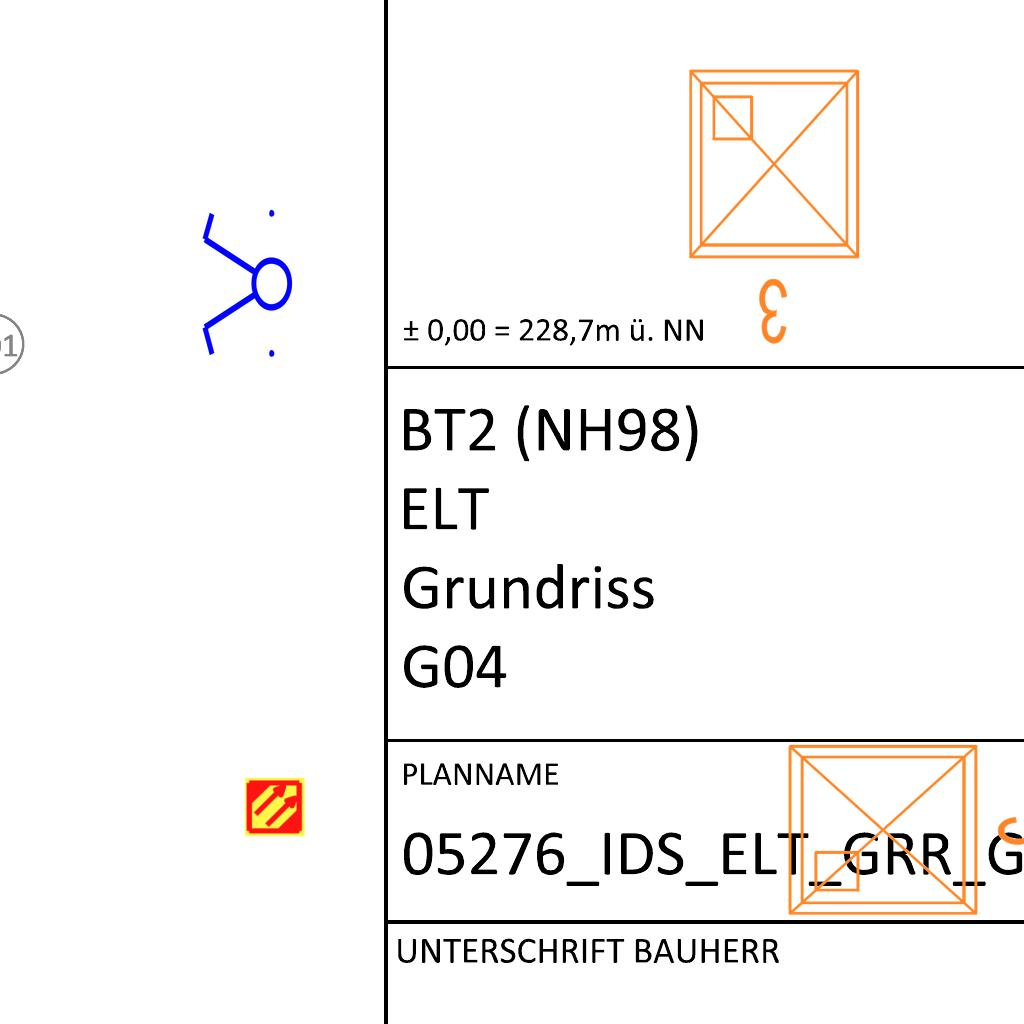ASR_Ansaugrauchmelder: (244, 776, 306, 838)
Einbaudownlights_LED_Konferenzraeume: (674, 55, 882, 355), (774, 722, 1024, 930)
Serienschalter: (198, 201, 294, 369)
